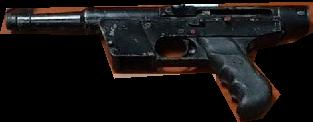gun: (0, 1, 313, 122)
